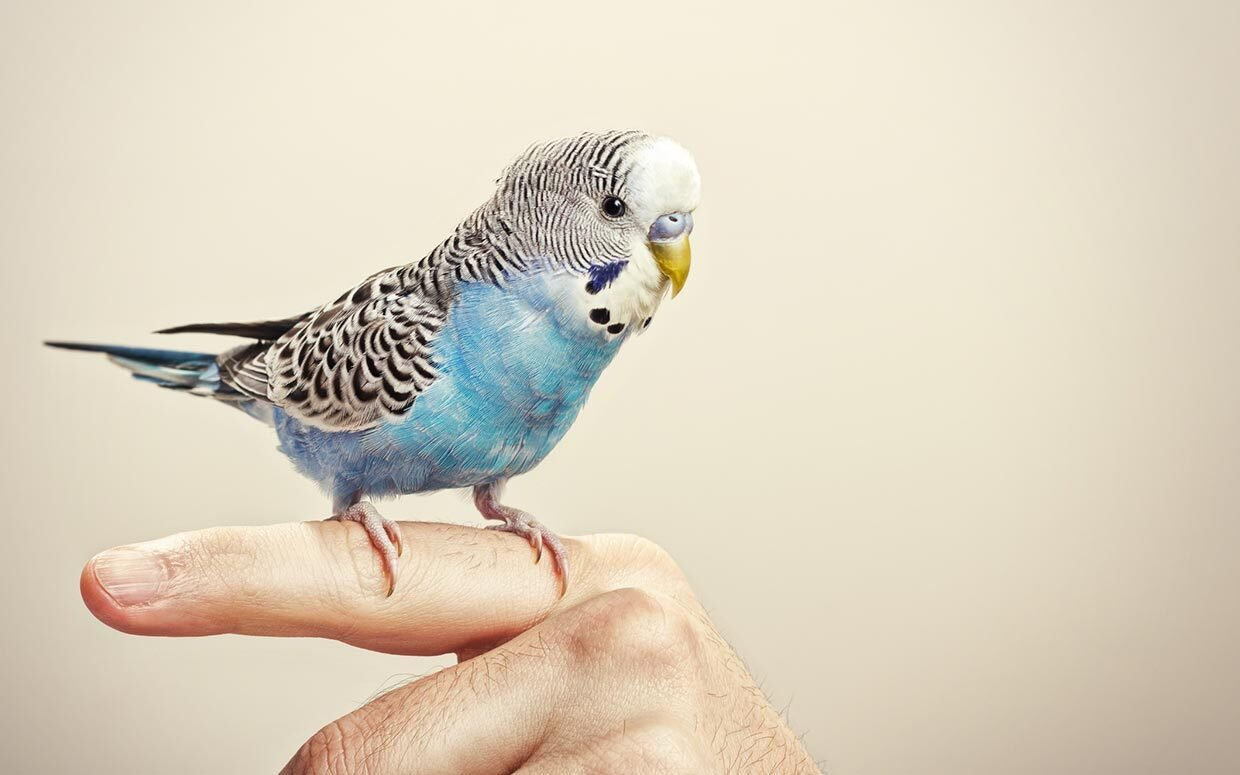bird: (30, 71, 735, 638)
